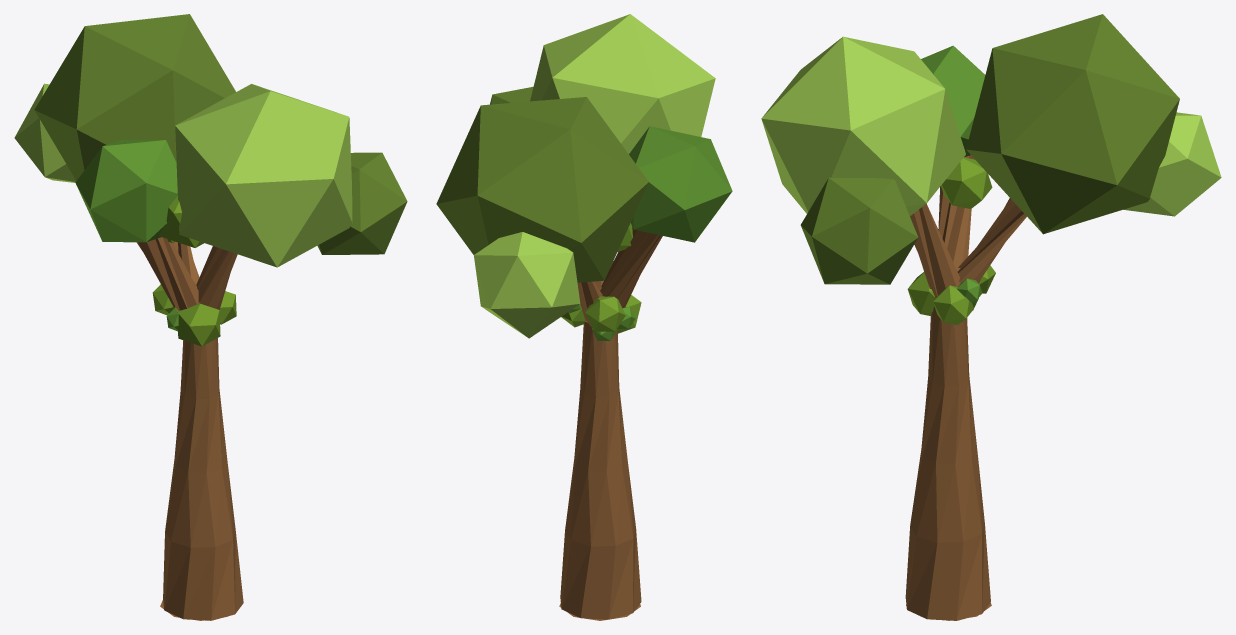
The model's file is Laubbaum groß.fbx.
The picture shows the model from 3 angles, left to right: view 1: azimuth 30°, elevation 25°; view 2: azimuth 150°, elevation 25°; view 3: azimuth 270°, elevation 25°; orthographic projection. The views are drawn at different scales.
Parts seen in each view (by area): view 1: Platonischer_Körper, Stamm; view 2: Platonischer_Körper, Stamm; view 3: Platonischer_Körper, Stamm.
Boxes of the visible parts, x1,y1,x2,y2 form: Platonischer_Körper: [14, 14, 407, 346]; Stamm: [160, 338, 243, 620]; Platonischer_Körper: [436, 14, 732, 340]; Stamm: [559, 321, 641, 620]; Platonischer_Körper: [761, 14, 1221, 325]; Stamm: [905, 306, 991, 620].
Bounding box in the file's own units: 1031 × 1917 × 1388.
